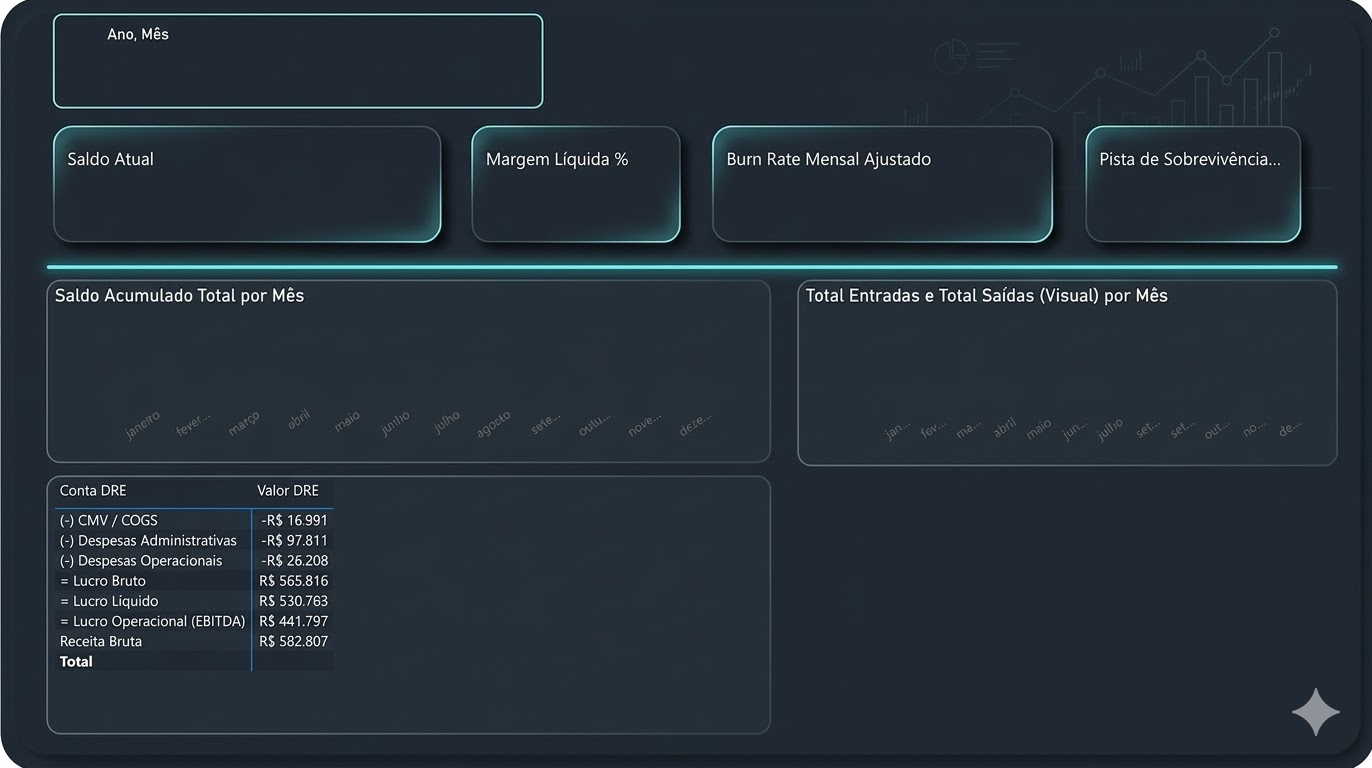

The dashboard page shown, as its layout file describes it:
{"tool":"powerbi","page":{"name":"Página 1","canvas":[1280,720],"ordinal":0},"visuals":[{"type":"cardVisual","fields":{"Data":["Fato_Movimentacoes_Tratada.Saldo Atual"]},"box":[150.7,119.7,254.5,100.2],"z":0},{"type":"cardVisual","fields":{"Data":["Fato_Movimentacoes_Tratada.Margem Líquida %"]},"box":[479.7,155.2,119.7,71.8],"z":1000},{"type":"cardVisual","fields":{"Data":["Fato_Movimentacoes_Tratada.Burn Rate"]},"box":[726.1,155.9,196.3,65.4],"z":2000},{"type":"cardVisual","fields":{"Data":["Fato_Movimentacoes_Tratada.Pista de Sobrevivência (Meses)"]},"box":[1061.9,155.9,94.9,70.9],"z":3000},{"type":"lineChart","fields":{"Category":["dCalendario.Mês"],"Y":["Fato_Movimentacoes_Tratada.Saldo Acumulado Total"]},"box":[57.8,291.1,637.8,130.8],"z":4000},{"type":"slicer","fields":{"Values":["dCalendario.Ano","dCalendario.Mês"]},"box":[193,39.3,251.9,48],"z":5000},{"type":"clusteredColumnChart","fields":{"Category":["dCalendario.Mês"],"Y":["Fato_Movimentacoes_Tratada.Total Entradas","Fato_Movimentacoes_Tratada.Total Saídas (Visual)"]},"box":[754.5,290,477.5,138.5],"z":6000},{"type":"pivotTable","fields":{"Rows":["Estrutura DRE.Conta DRE"],"Values":["Fato_Movimentacoes_Tratada.Valor DRE"]},"box":[47,466.4,658.8,210.1],"z":7000},{"type":"pivotTable","fields":{"Rows":["Fato_Movimentacoes_Tratada.category"],"Values":["Fato_Movimentacoes_Tratada.Saldo Atual"]},"box":[345.6,466.6,306.4,210.4],"z":8000}]}

Visuals, with their boxes in screenshot pixels (x1, y1, x2, y2), scaled from the page's 1280x720 canvas onto the 1372x768 screenshot:
cardVisual - Fato_Movimentacoes_Tratada.Saldo Atual: <box>162,128,434,235</box>
cardVisual - Fato_Movimentacoes_Tratada.Margem Líquida %: <box>514,166,642,242</box>
cardVisual - Fato_Movimentacoes_Tratada.Burn Rate: <box>778,166,989,236</box>
cardVisual - Fato_Movimentacoes_Tratada.Pista de Sobrevivência (Meses): <box>1138,166,1240,242</box>
lineChart - dCalendario.Mês x Fato_Movimentacoes_Tratada.Saldo Acumulado Total: <box>62,311,746,450</box>
slicer - dCalendario.Ano x dCalendario.Mês: <box>207,42,477,93</box>
clusteredColumnChart - dCalendario.Mês x Fato_Movimentacoes_Tratada.Total Entradas: <box>809,309,1321,457</box>
pivotTable - Estrutura DRE.Conta DRE x Fato_Movimentacoes_Tratada.Valor DRE: <box>50,497,757,722</box>
pivotTable - Fato_Movimentacoes_Tratada.category x Fato_Movimentacoes_Tratada.Saldo Atual: <box>370,498,699,722</box>
